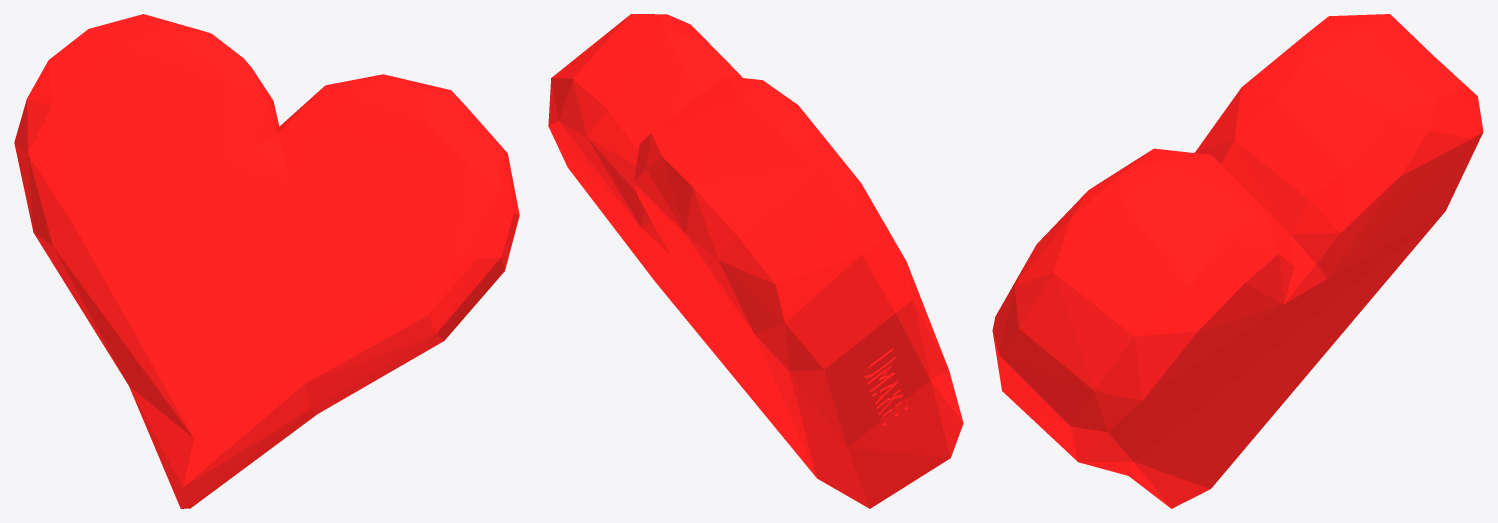
Rendered from heart.fbx.
3 views of the same model, side by side, from view 1: azimuth 30°, elevation 25°; view 2: azimuth 150°, elevation 25°; view 3: azimuth 270°, elevation 25° (orthographic). The views are drawn at different scales.
Visible parts, largest first — view 1: Umakes_Lowpoly_heart; view 2: Umakes_Lowpoly_heart; view 3: Umakes_Lowpoly_heart.
Boxes of the visible parts, left/top/right/bottom form: Umakes_Lowpoly_heart: left=14, top=14, right=519, bottom=508; Umakes_Lowpoly_heart: left=548, top=14, right=963, bottom=508; Umakes_Lowpoly_heart: left=992, top=14, right=1483, bottom=508.
Size of the model in its own units: 85.66 by 89.07 by 78.66.
